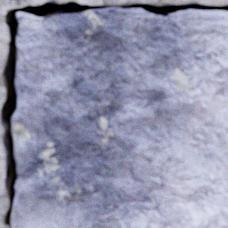brick: (12, 7, 227, 227)
crack: (0, 0, 227, 227)
